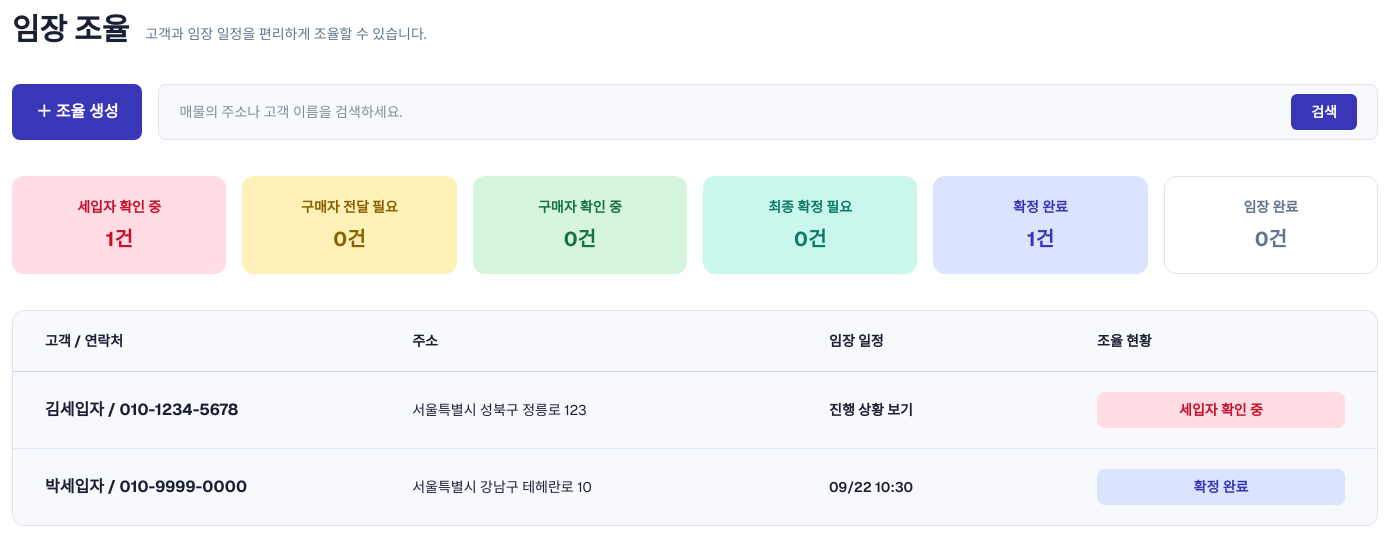
Test: CoordinationList › 검색어로 고객 이름이나 주소를 필터링한다
This screenshot has width=1390, height=543.
Expected: the text "김세입자 / 010-1234-5678" is shown, left=45, top=399, right=238, bottom=420
Type "박세입자" into the field with placeholder "매물의 주소나 고객 이름을 검색하세요." at (735, 112), box left=179, top=102, right=1291, bottom=122
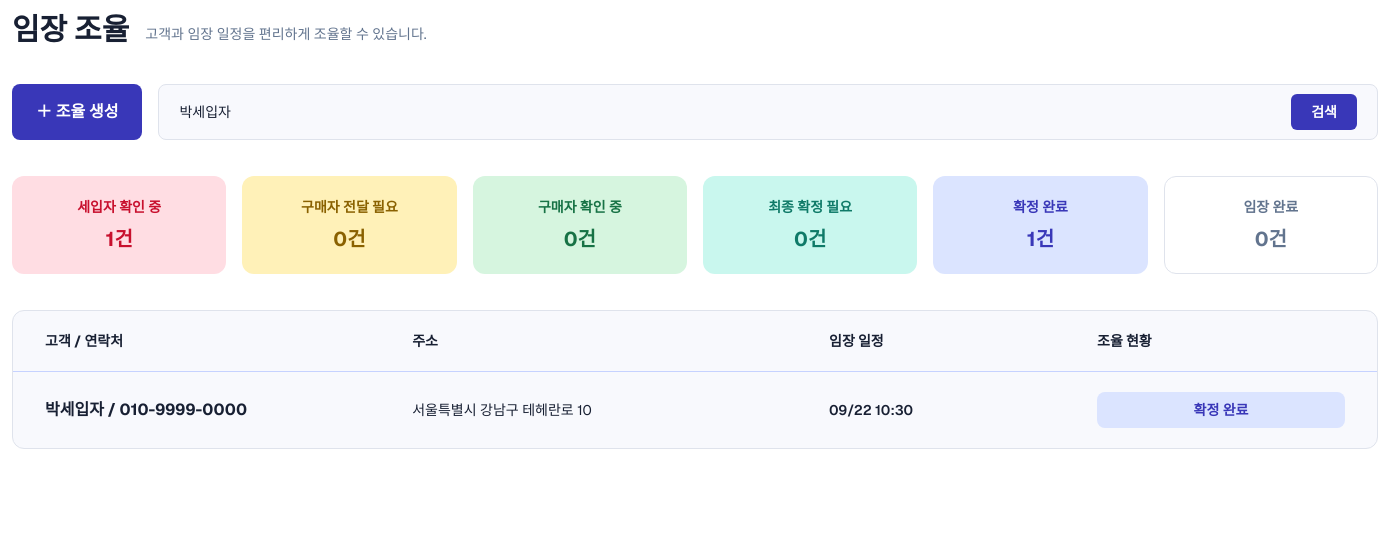
Expected: the text "박세입자 / 010-9999-0000" is shown, left=45, top=399, right=247, bottom=420
Now the link "김세입자 / 010-1234-5678" is gone
